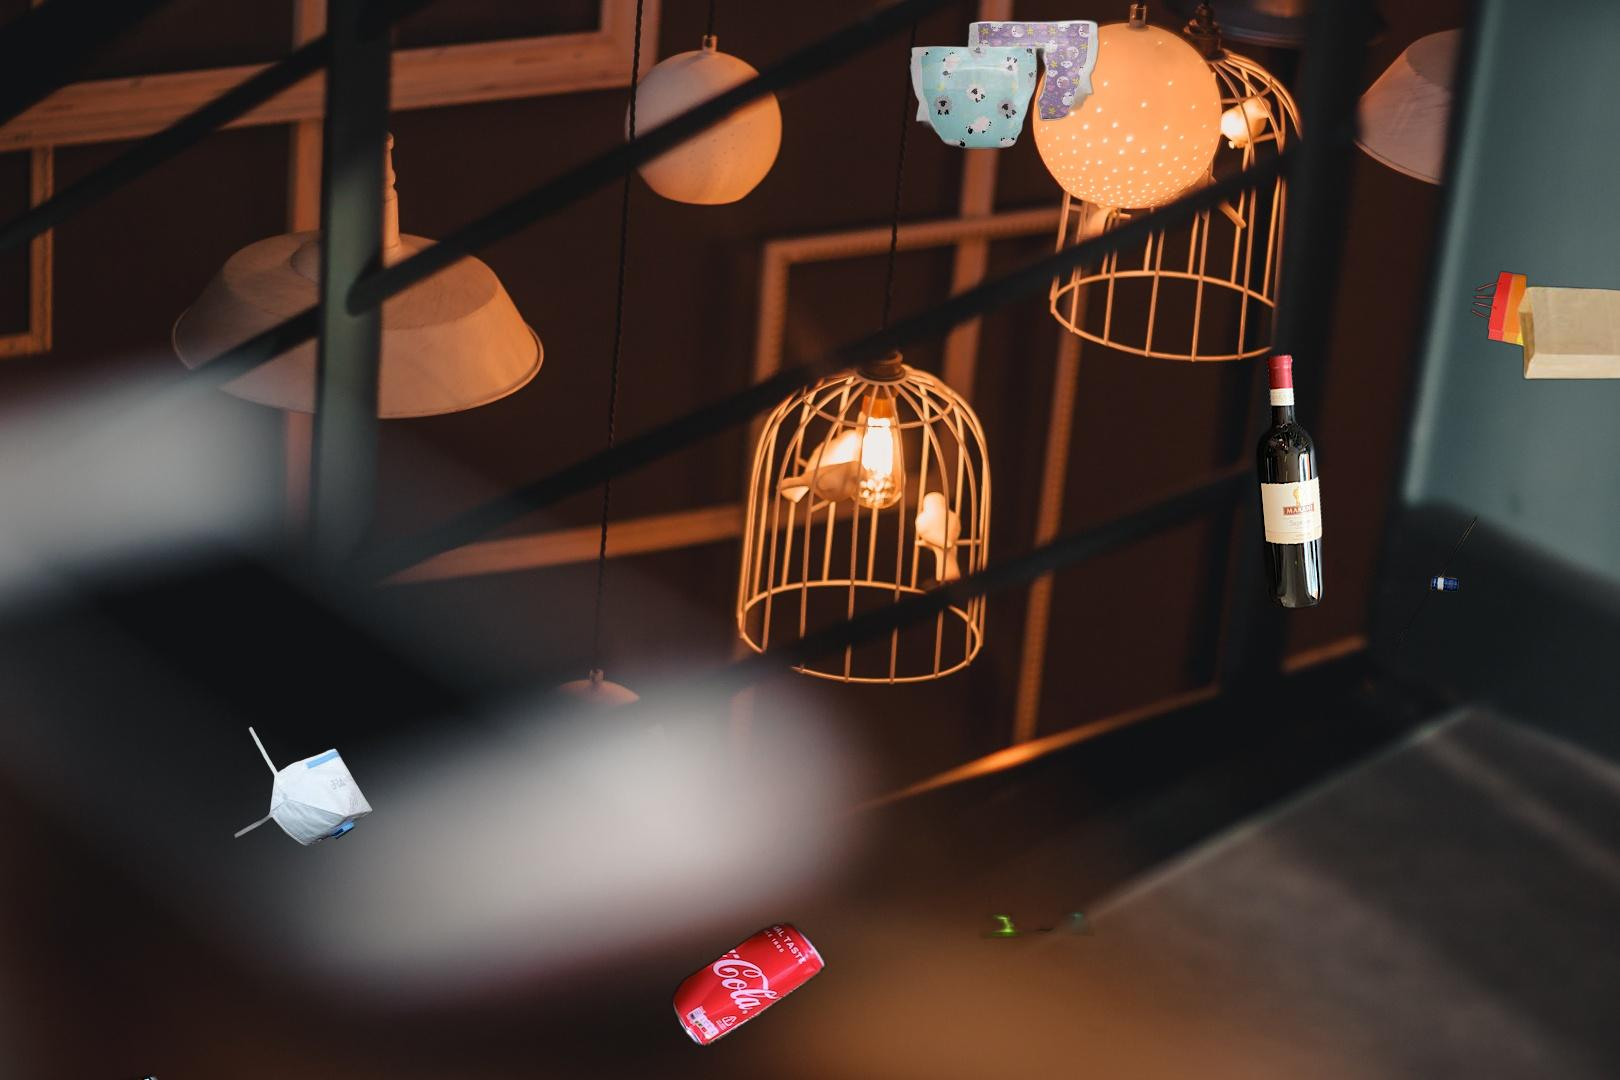glass: (1170, 288, 1481, 668), (1251, 348, 1327, 616), (81, 1067, 202, 1080)
metal-cans: (668, 536, 847, 1053)
paper-bag: (1471, 268, 1620, 381)
trash: (906, 14, 1109, 152), (231, 724, 375, 849)
trashbox-cardboard: (738, 897, 1128, 1080)
